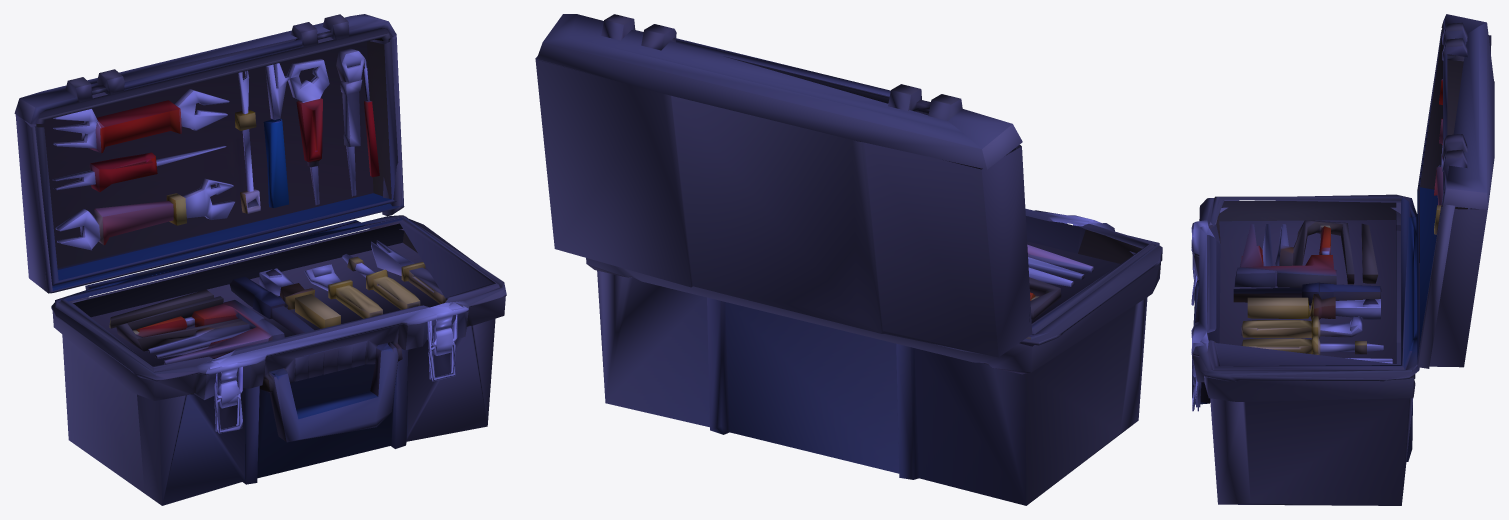
File: model.progressive.glb
3 renders of one model, left to right at view 1: azimuth 30°, elevation 25°; view 2: azimuth 150°, elevation 25°; view 3: azimuth 270°, elevation 25°, orthographic. The views are drawn at different scales.
Visible parts, largest first — view 1: ArmourToolBox1; view 2: ArmourToolBox1; view 3: ArmourToolBox1.
Part boxes in pixels (bbox=[...]): ArmourToolBox1: bbox=[14, 14, 506, 505]; ArmourToolBox1: bbox=[535, 14, 1162, 505]; ArmourToolBox1: bbox=[1191, 14, 1494, 505].
Bounding box in the file's own units: 1.9 × 1.63 × 1.34.
1 material, 1 textured.
